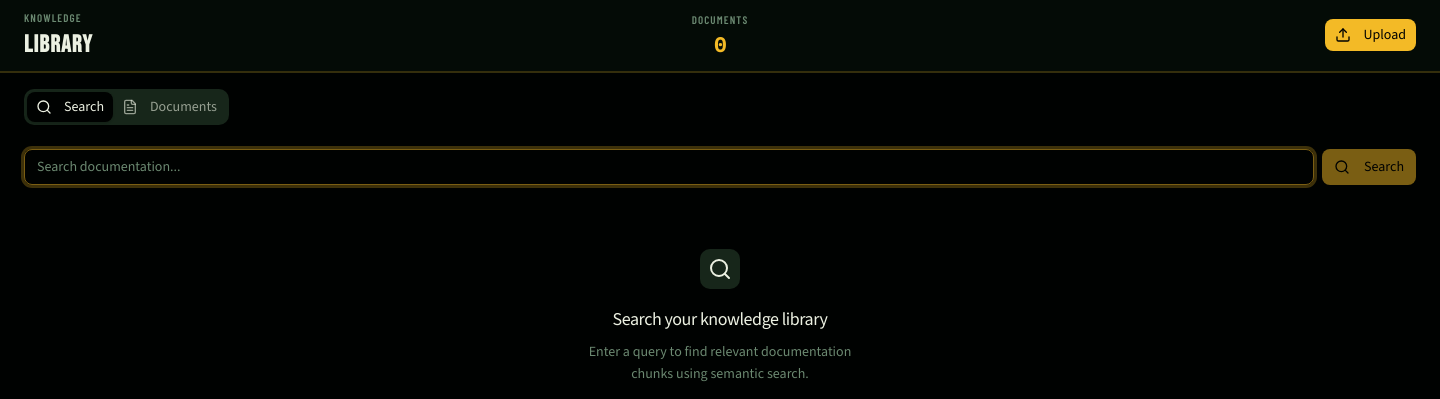
Test: KnowledgePage › shows error state when search fails
Step 1. Type "test query" into the field with placeholder "Search documentation..." → (669, 166), box x1=24 y1=148 x2=1314 y2=184
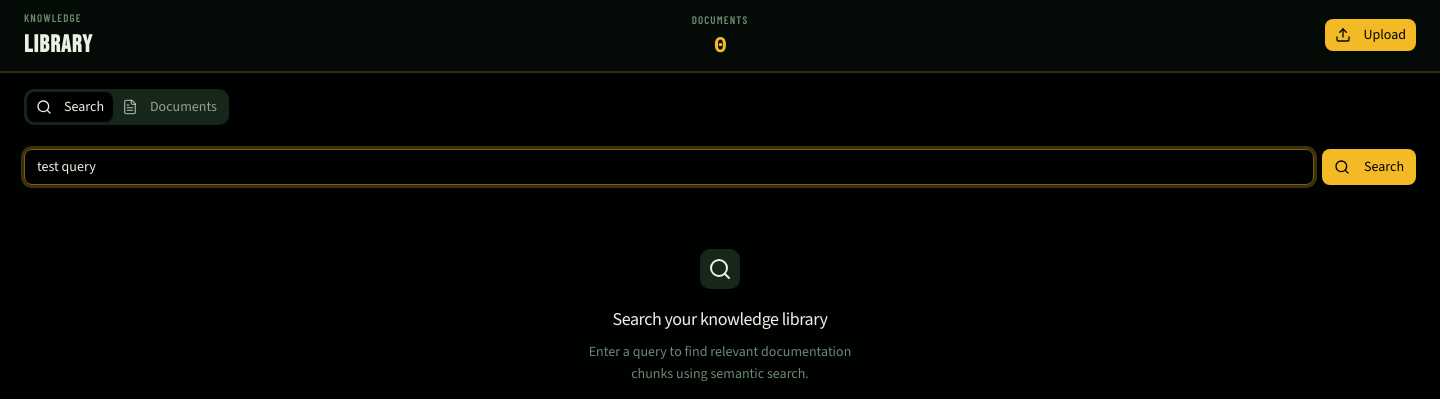
Step 2. Click the button "Search" → (1369, 166), box x1=1322 y1=148 x2=1416 y2=184
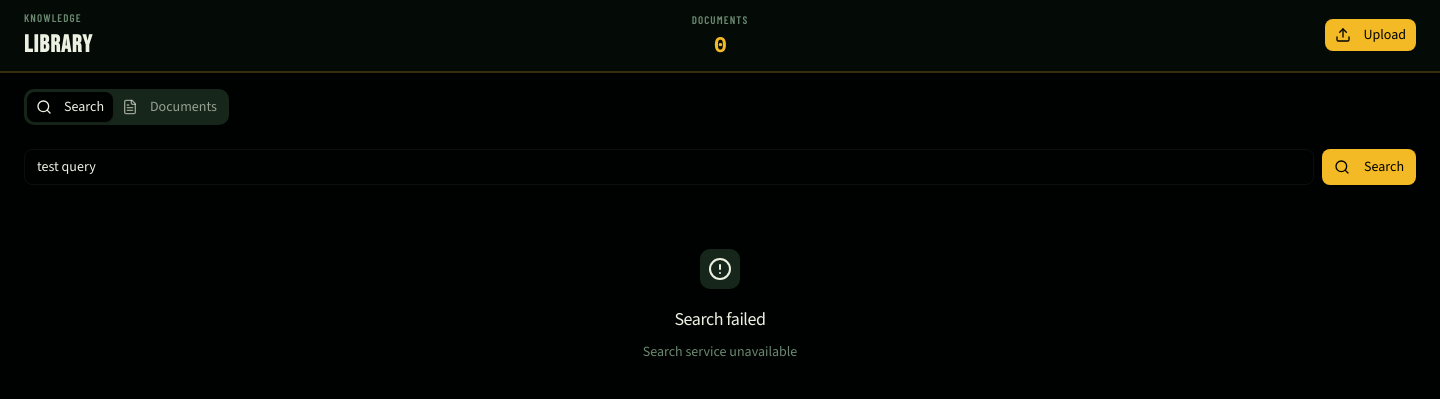
Expected: the text "Search failed" is shown, x1=674 y1=304 x2=766 y2=332
Expected: the text "Search service unavailable" is shown, x1=643 y1=340 x2=797 y2=363
